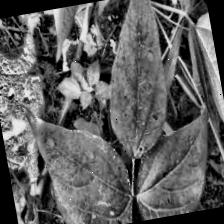ALS: (32, 103, 135, 224), (99, 14, 181, 156), (136, 150, 200, 220)
